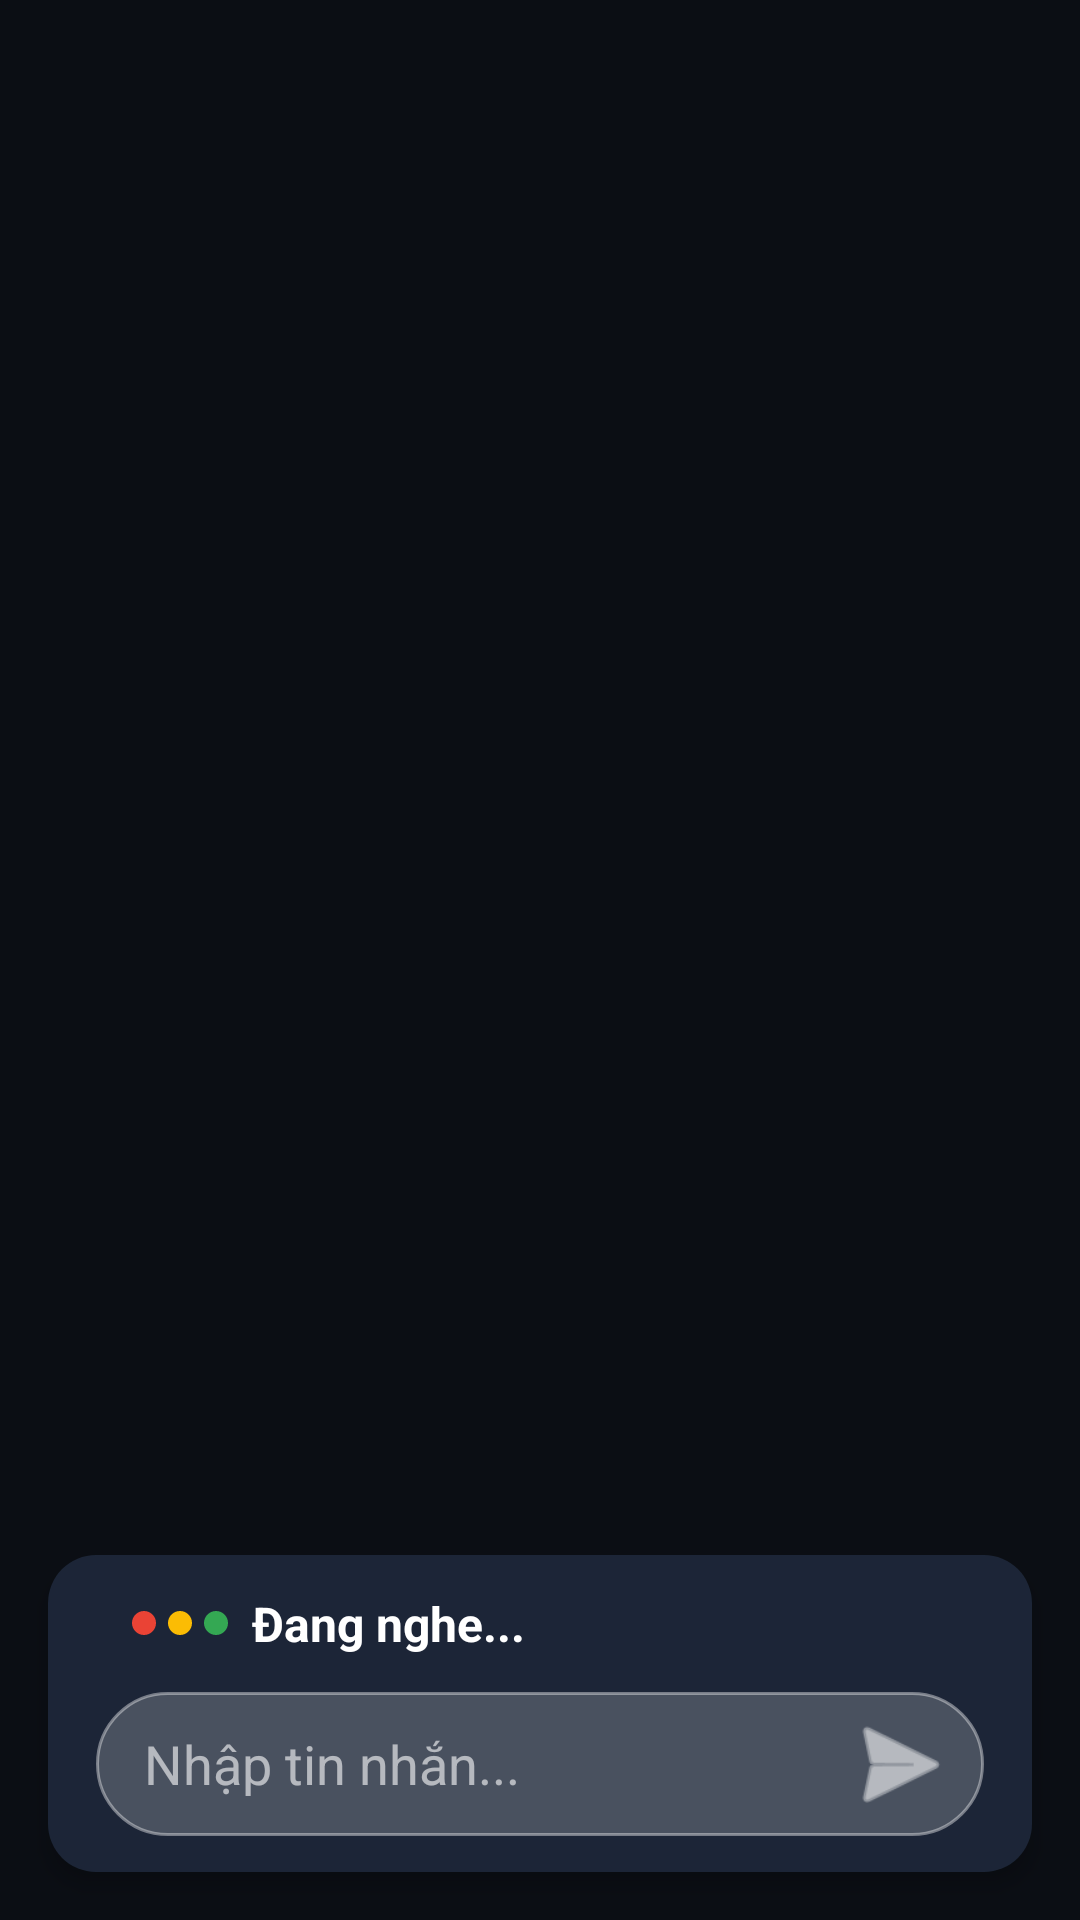

Point at icon controls on the screen. Image size 1080px x 1920px, points as [x,y].
Gửi: [901,1764]
